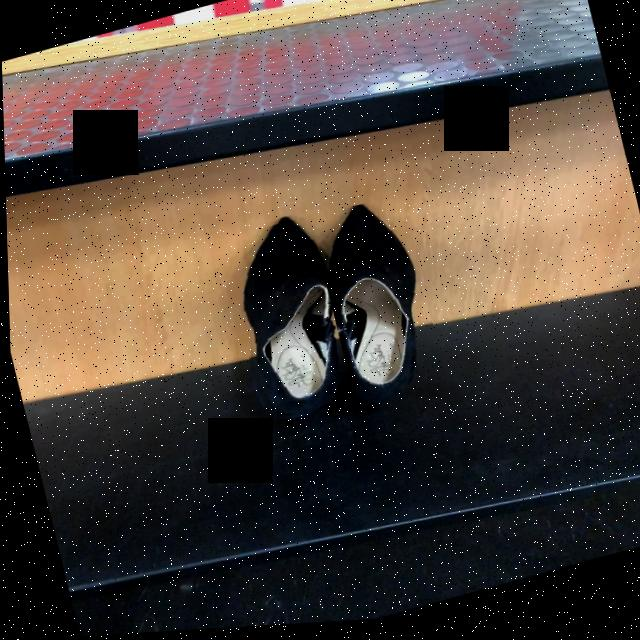shoe: (327, 207, 420, 404), (237, 223, 330, 412)
